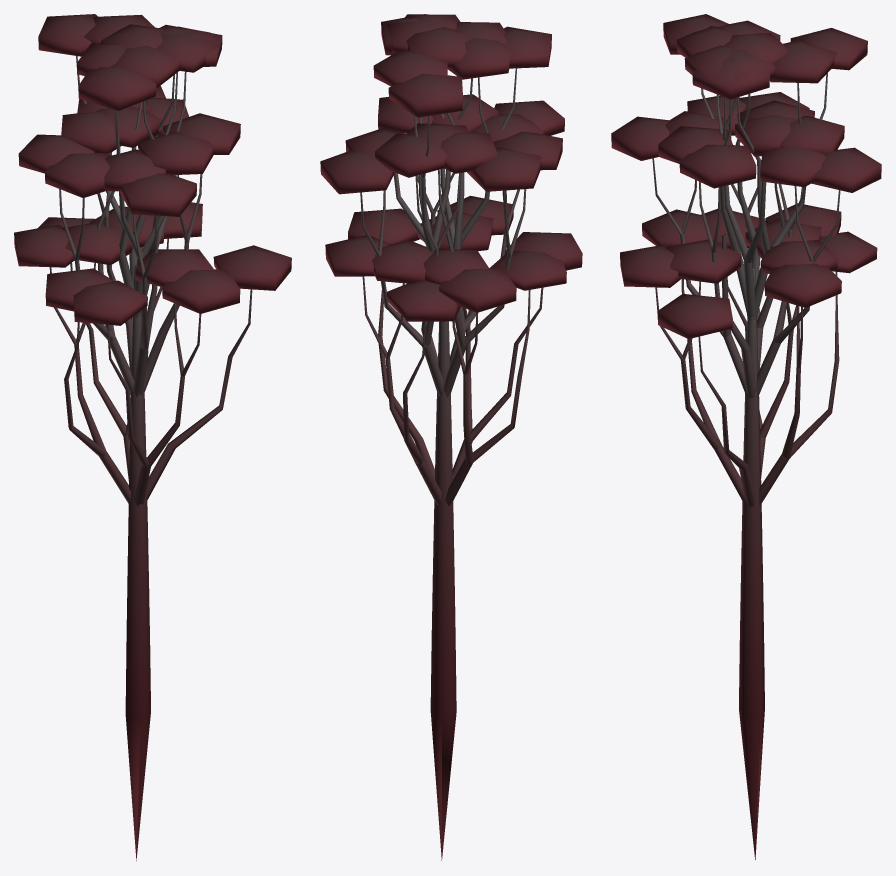
The model's file is plants-trees-palms-tiered-red-tree_v7.fbx.
The picture shows the model from 3 angles, left to right: view 1: azimuth 30°, elevation 25°; view 2: azimuth 150°, elevation 25°; view 3: azimuth 270°, elevation 25°; orthographic projection.
Visible parts, largest first — view 1: Tiered Red Tree_v7; view 2: Tiered Red Tree_v7; view 3: Tiered Red Tree_v7.
Part boxes in pixels (box(x1,y1,x2,y2)): Tiered Red Tree_v7: box(14, 14, 291, 861); Tiered Red Tree_v7: box(320, 14, 582, 860); Tiered Red Tree_v7: box(611, 14, 881, 859).
Bounding box in the file's own units: 1.73 × 6 × 1.78.
